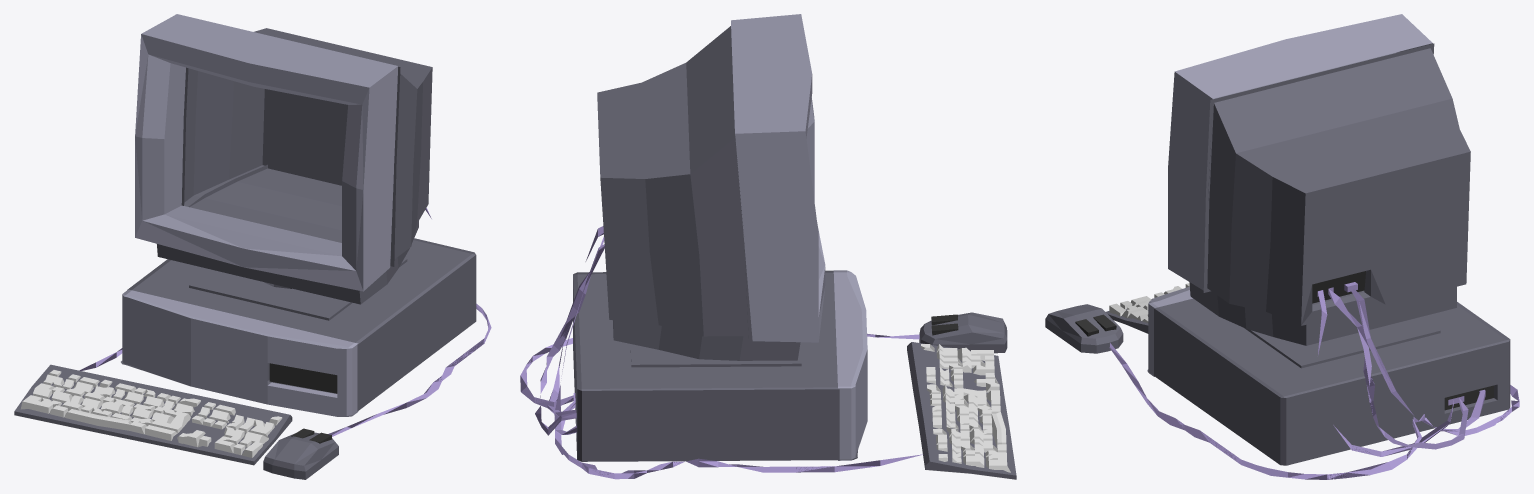
File: compressed_computer_setup.glb
3 views of the same model, side by side, from view 1: azimuth 30°, elevation 25°; view 2: azimuth 150°, elevation 25°; view 3: azimuth 270°, elevation 25° (orthographic). The views are drawn at different scales.
Parts seen in each view (by area): view 1: monitor_base, computer, keyboard, mouse, cables; view 2: monitor_base, computer, keyboard, cables, mouse; view 3: monitor_base, computer, cables, mouse, keyboard.
Boxes of the visible parts, x1=… form: monitor_base: x1=135, y1=14, x2=432, y2=320; computer: x1=121, y1=238, x2=476, y2=416; keyboard: x1=14, y1=364, x2=292, y2=465; mouse: x1=263, y1=428, x2=338, y2=479; cables: x1=79, y1=208, x2=491, y2=436; monitor_base: x1=597, y1=14, x2=825, y2=367; computer: x1=573, y1=270, x2=867, y2=461; keyboard: x1=907, y1=342, x2=1016, y2=479; cables: x1=520, y1=226, x2=922, y2=479; mouse: x1=919, y1=312, x2=1007, y2=353; monitor_base: x1=1168, y1=14, x2=1470, y2=368; computer: x1=1147, y1=286, x2=1510, y2=465; cables: x1=1109, y1=282, x2=1519, y2=479; mouse: x1=1045, y1=304, x2=1123, y2=353; keyboard: x1=1106, y1=283, x2=1189, y2=333.
Size of the model in its own units: 2.47 by 1.63 by 2.19.
